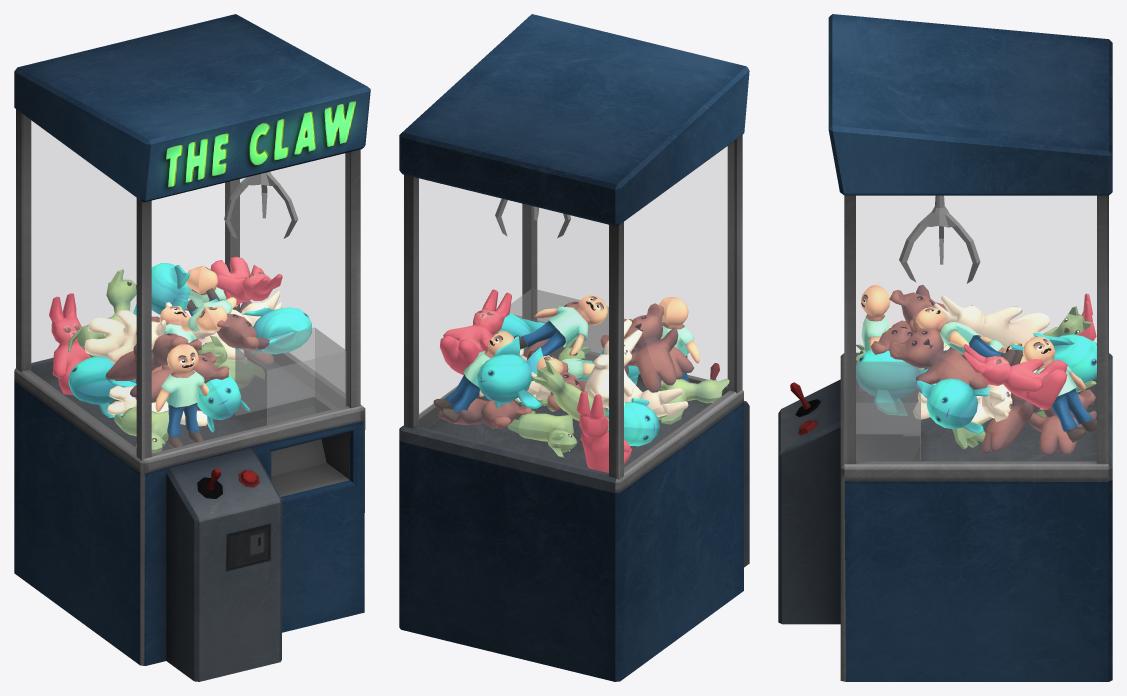
The model's file is claw_machine.glb.
The picture shows the model from 3 angles, left to right: view 1: azimuth 30°, elevation 25°; view 2: azimuth 150°, elevation 25°; view 3: azimuth 270°, elevation 25°; orthographic projection. The views are drawn at different scales.
Parts seen in each view (by area): view 1: polySurface65, polySurface24, polySurface113, polySurface42, polySurface80, polySurface94, polySurface89, polySurface95, pCylinder57, polySurface92, polySurface97, polySurface98; view 2: polySurface65, polySurface24, polySurface113, polySurface94, polySurface42, polySurface100, polySurface99, polySurface89, polySurface80, polySurface97, polySurface98; view 3: polySurface65, polySurface24, polySurface113, polySurface42, polySurface95, pCylinder57, polySurface99, polySurface93, polySurface80.
Part boxes in pixels (box(x1,y1,x2,y2)): polySurface65: box(14, 14, 370, 681); polySurface24: box(24, 116, 349, 455); polySurface113: box(68, 256, 311, 453); polySurface42: box(235, 327, 345, 428); polySurface80: box(155, 344, 208, 448); polySurface94: box(49, 293, 99, 395); polySurface89: box(68, 356, 136, 417); polySurface95: box(197, 375, 249, 432); pCylinder57: box(224, 171, 298, 238); polySurface92: box(197, 335, 264, 388); polySurface97: box(107, 385, 207, 426); polySurface98: box(159, 306, 196, 342); polySurface65: box(399, 14, 749, 681); polySurface24: box(414, 142, 733, 474); polySurface113: box(433, 289, 729, 430); polySurface94: box(576, 391, 631, 472); polySurface42: box(510, 289, 608, 361); polySurface100: box(507, 410, 578, 457); polySurface99: box(438, 398, 532, 428); polySurface89: box(606, 398, 659, 446); polySurface80: box(659, 297, 699, 389); polySurface97: box(624, 377, 688, 417); polySurface98: box(537, 355, 628, 380); polySurface65: box(778, 14, 1112, 681); polySurface24: box(856, 196, 1096, 462); polySurface113: box(856, 285, 1096, 442); polySurface42: box(856, 362, 920, 460); polySurface95: box(856, 349, 933, 415); pCylinder57: box(899, 195, 980, 283); polySurface99: box(1028, 389, 1096, 456); polySurface93: box(981, 392, 1040, 454); polySurface80: box(859, 284, 890, 395).
Bounding box in the file's own units: 1.86 × 4.19 × 2.29.
Materials: 5 (2 with a texture image).
